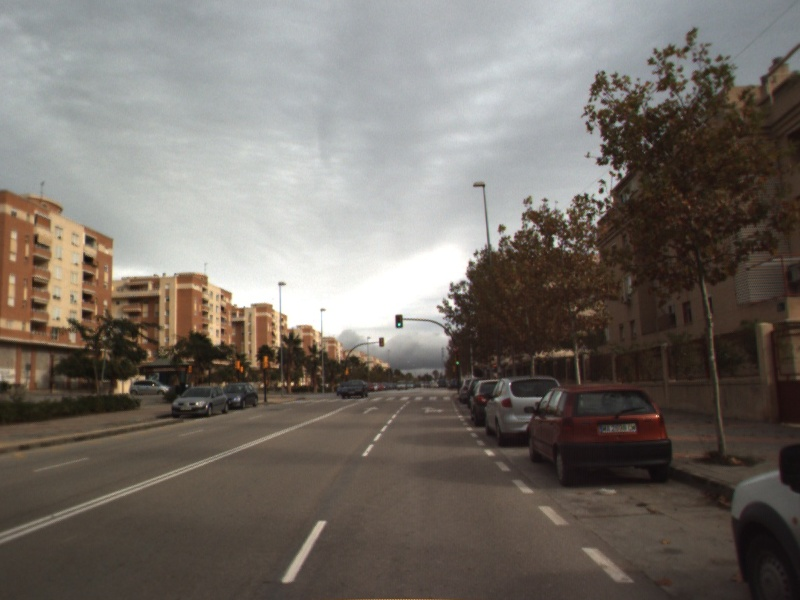STRAIGHT: (360, 404, 381, 416)
STRAIGHT_RIGHT: (418, 404, 446, 415)
